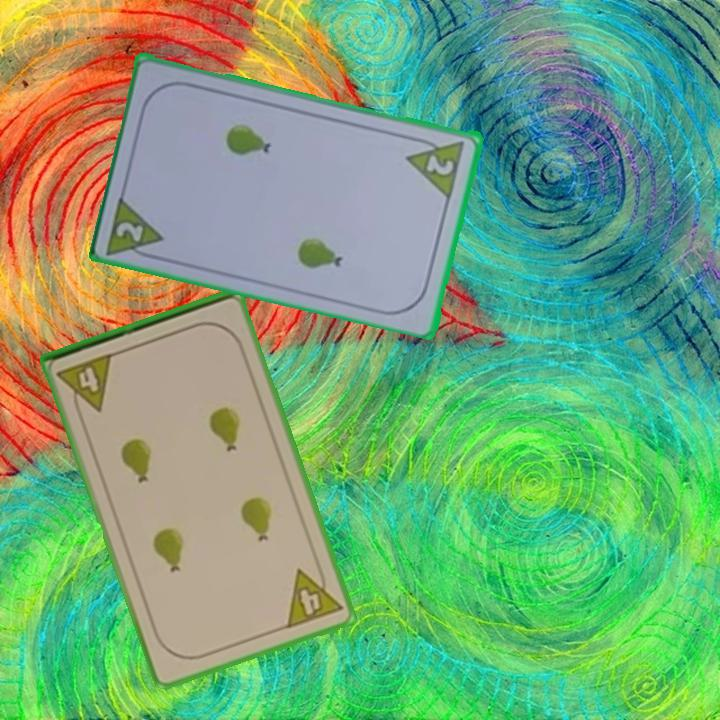2p: (103, 191, 167, 264), (403, 132, 468, 200)
4p: (282, 559, 345, 632), (53, 349, 117, 420)
